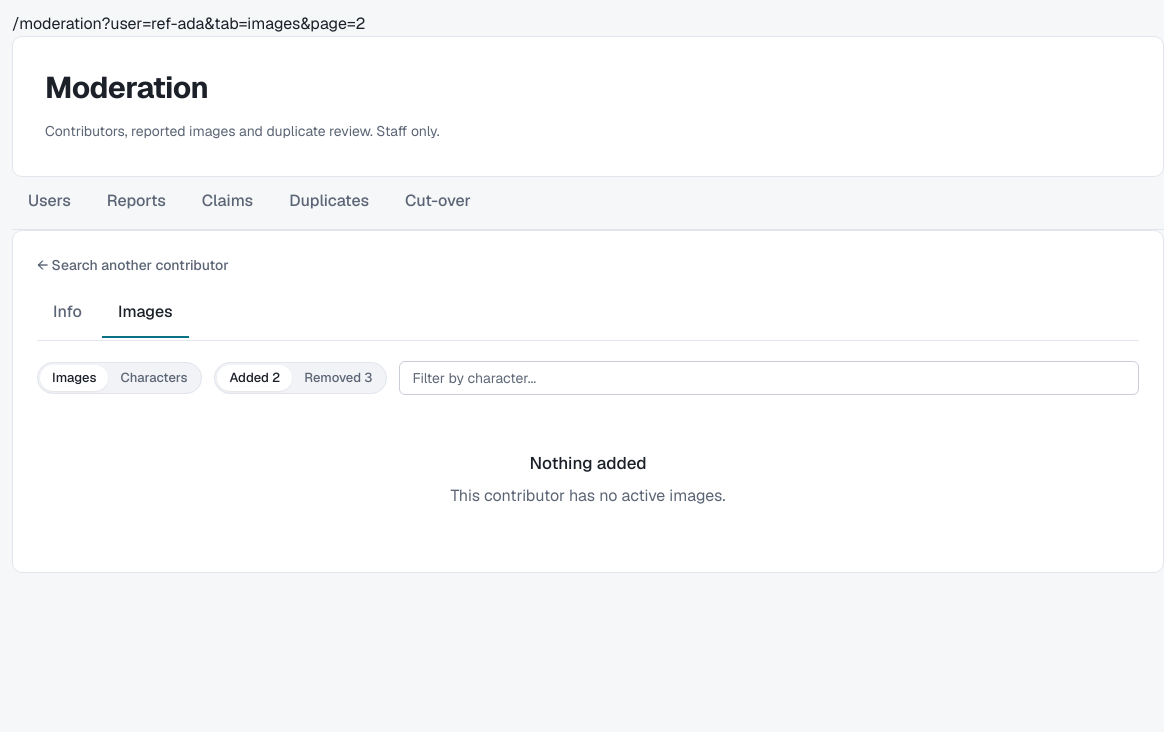
Test: the URL is the source of truth › resets the page to one when the character filter changes
Step 1. Type "Rem" into the search field labelled "Filter by character" → (769, 378), box [399,360,1139,394]
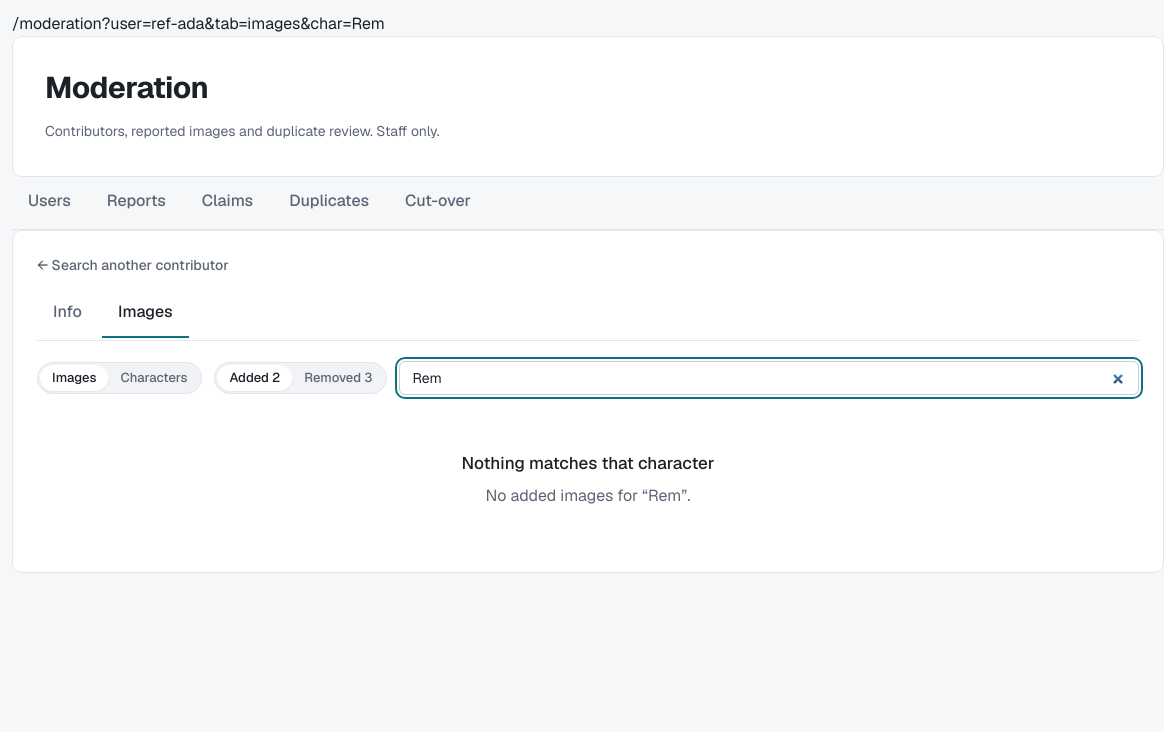
Result: the text with test id "location" no longer shows "page=2"
